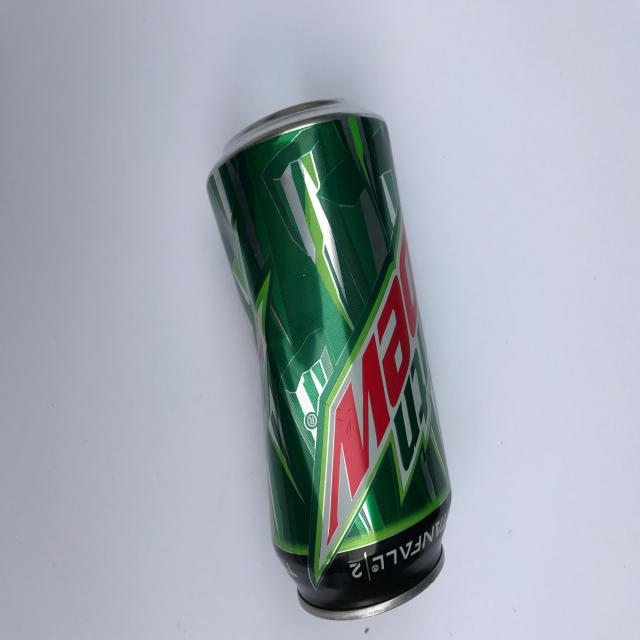metal: (205, 97, 452, 620)
